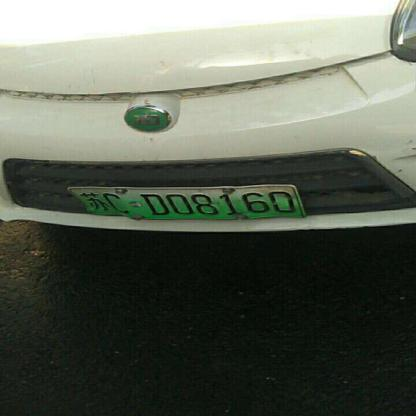lp: (69, 185, 305, 216)
